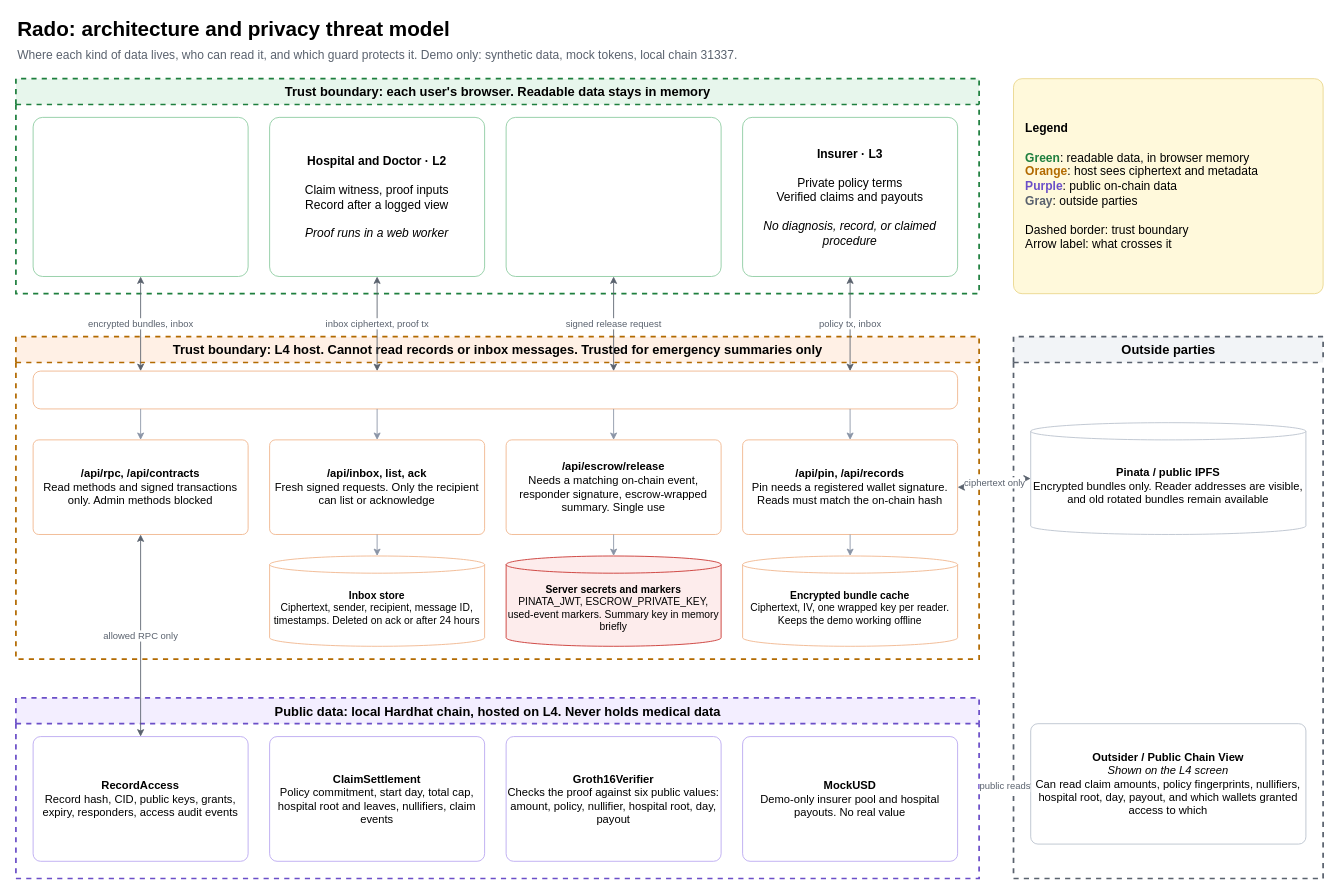
Image size: 1338x894. Some labels were removed from this diagram. The shapes that lost their labels are listed below. From the top down, each one's centre as x and y in pixels, then its label:
the point at 140,196: Patient · L1 Derived keys Decrypted records Policy terms Encrypts before upload
the point at 613,196: Emergency Responder · L2 Emergency summary only Access is logged on-chain first
the point at 495,389: Next.js app over LAN HTTPS · same origin for all role screens and server routes
